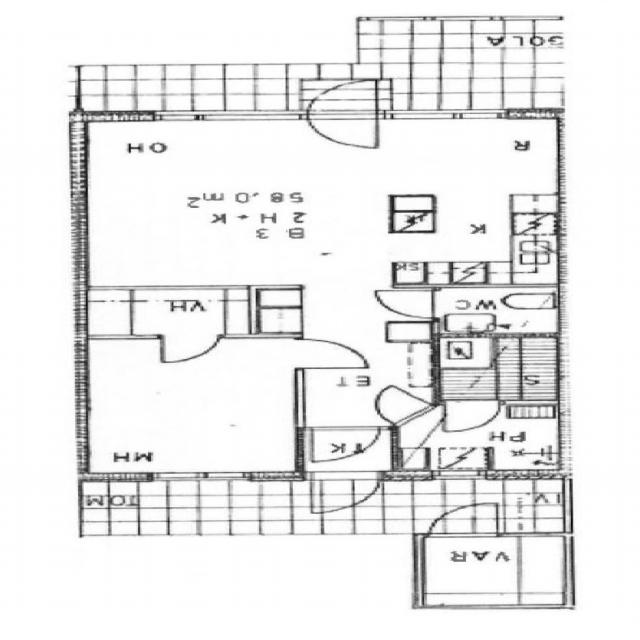door: (353, 387, 436, 427), (307, 110, 377, 155), (307, 76, 377, 121), (310, 472, 380, 514), (428, 499, 498, 538), (312, 427, 378, 463), (294, 340, 362, 369), (162, 334, 218, 366), (374, 291, 438, 318), (444, 401, 499, 432)
